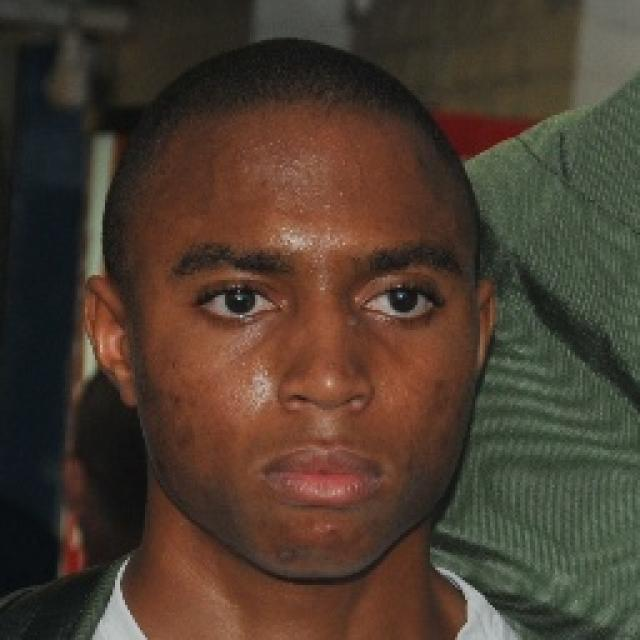earlobe: (81, 276, 141, 408), (471, 279, 499, 384)
